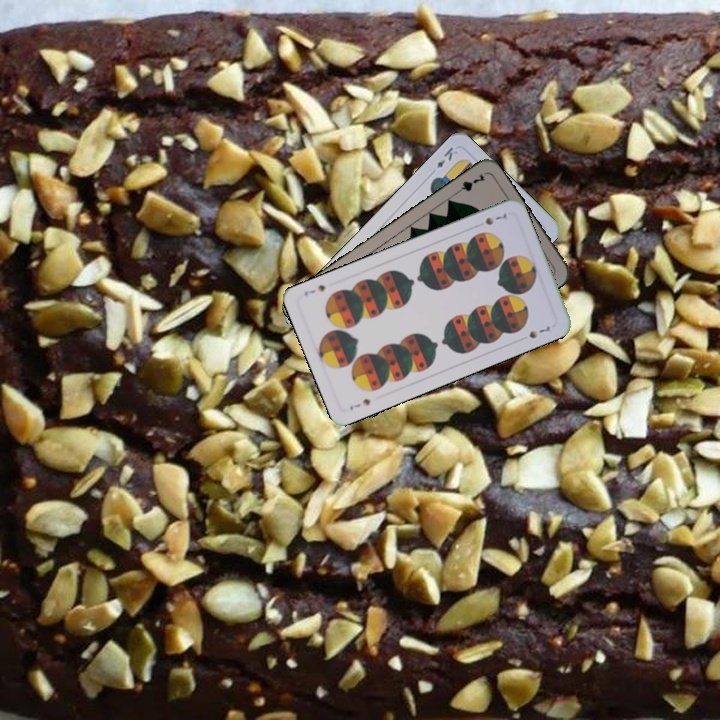EK: (432, 143, 461, 171)
G7: (450, 170, 488, 198)
S7: (481, 209, 510, 228), (345, 394, 373, 413)
